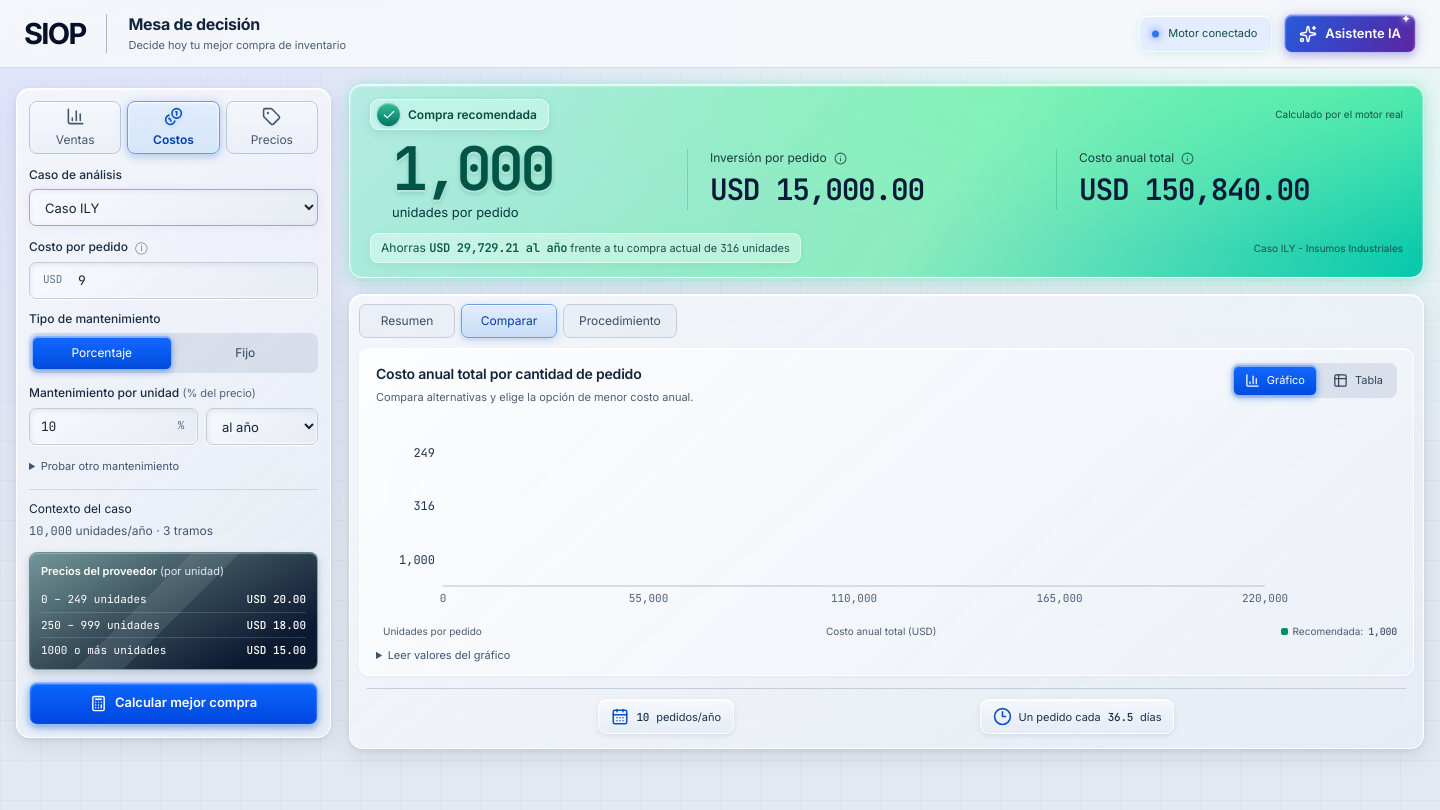
Test: Integración en la página › un error de API conserva el resultado anterior como desactualizado
The image size is (1440, 810).
Check: the heading "Compra recomendada" is shown, box [370,99,549,130]
Select "Caso Wohl" in the dropdown labelled "Caso de análisis": (174, 208) [29,189,318,226]
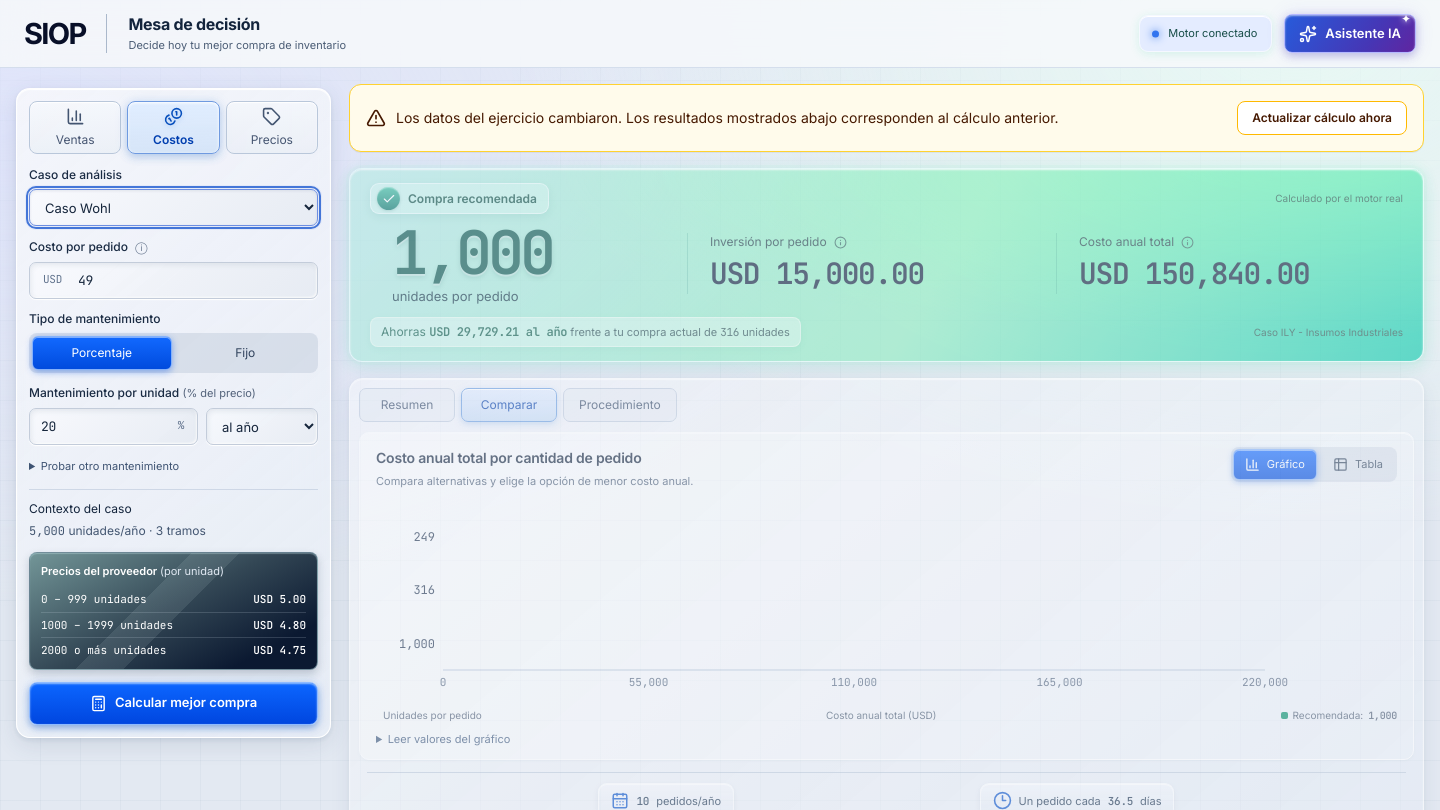
Click the button "Calcular mejor compra": (174, 703) [29,682,318,725]
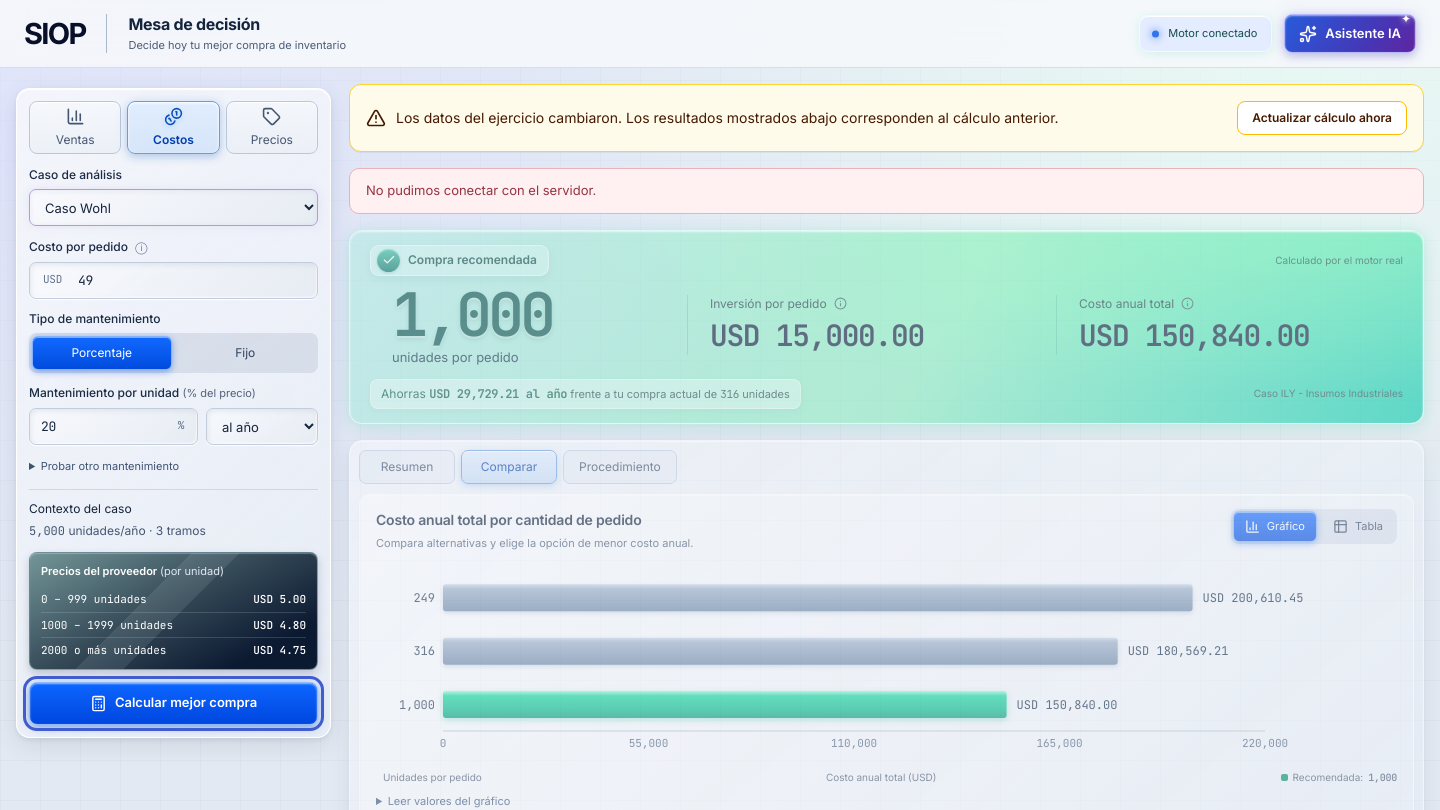
Check: the heading "Costo anual total" is shown, box [1079,296,1194,311]
Check: the text "Los datos del ejercicio cambiaron. Los resultados mostrados abajo corresponden al cálculo anterior." is shown, box [396,109,1059,126]
Check: the message "No pudimos conectar con el servidor." is shown, box [349,168,1424,214]
